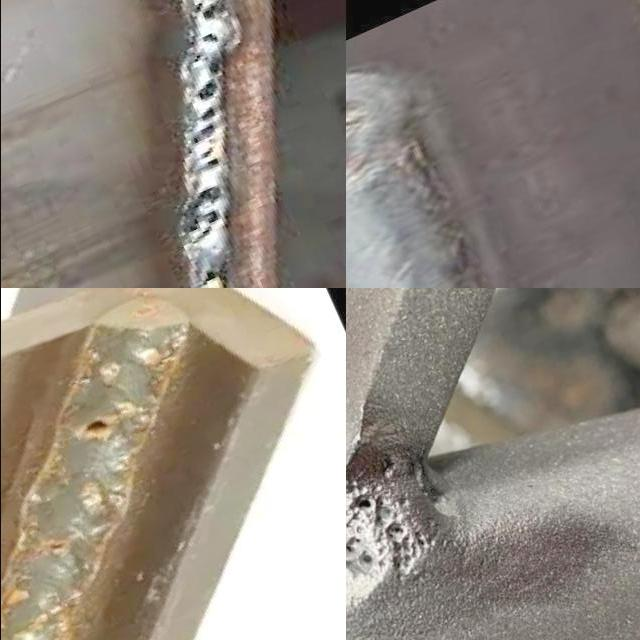defect: (345, 486, 441, 572), (175, 183, 227, 243), (192, 104, 227, 172), (194, 55, 224, 106), (345, 528, 375, 571), (181, 0, 223, 27), (76, 416, 109, 439), (36, 538, 66, 557), (195, 266, 220, 288), (197, 29, 222, 47)
